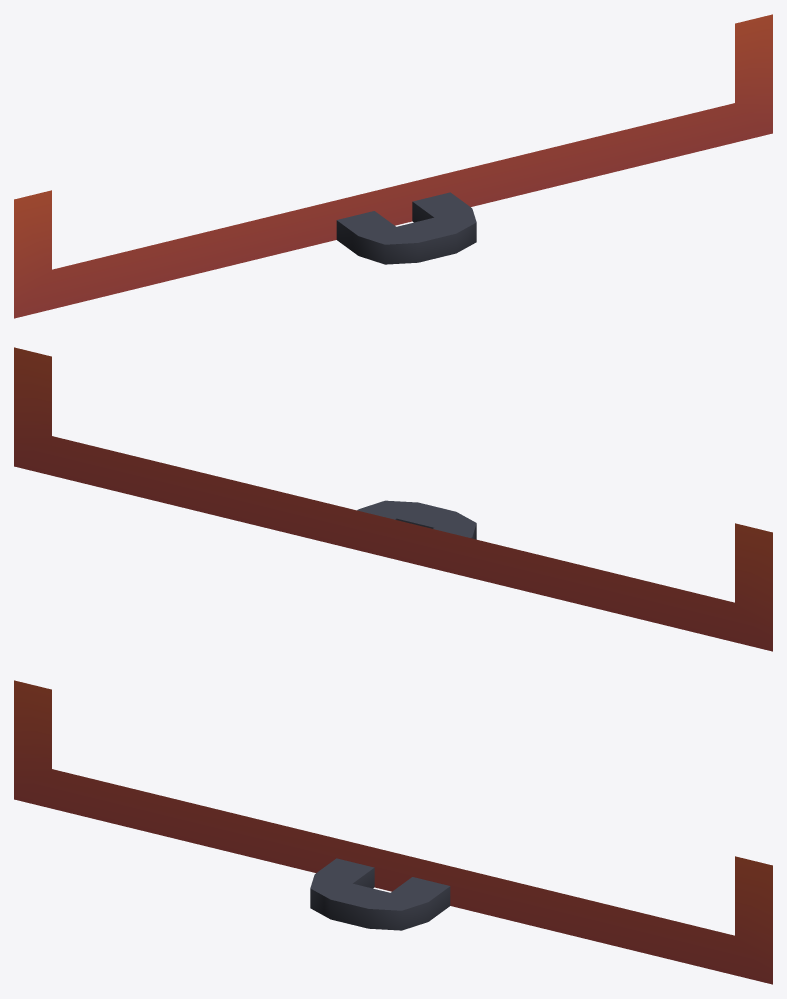
File: track-striped-wide-cap-back.glb
3 renders of one model, top to bottom at view 1: azimuth 30°, elevation 25°; view 2: azimuth 150°, elevation 25°; view 3: azimuth 330°, elevation 25°, orthographic.
Parts seen in each view (by area): view 1: track-striped-wide-cap-back; view 2: track-striped-wide-cap-back; view 3: track-striped-wide-cap-back.
Boxes of the visible parts, box(x1,y1,x2,y2) form: track-striped-wide-cap-back: box(14, 14, 772, 318); track-striped-wide-cap-back: box(14, 347, 772, 651); track-striped-wide-cap-back: box(14, 680, 772, 984).
Bounding box in the file's own units: 2 × 0.3 × 0.2.
